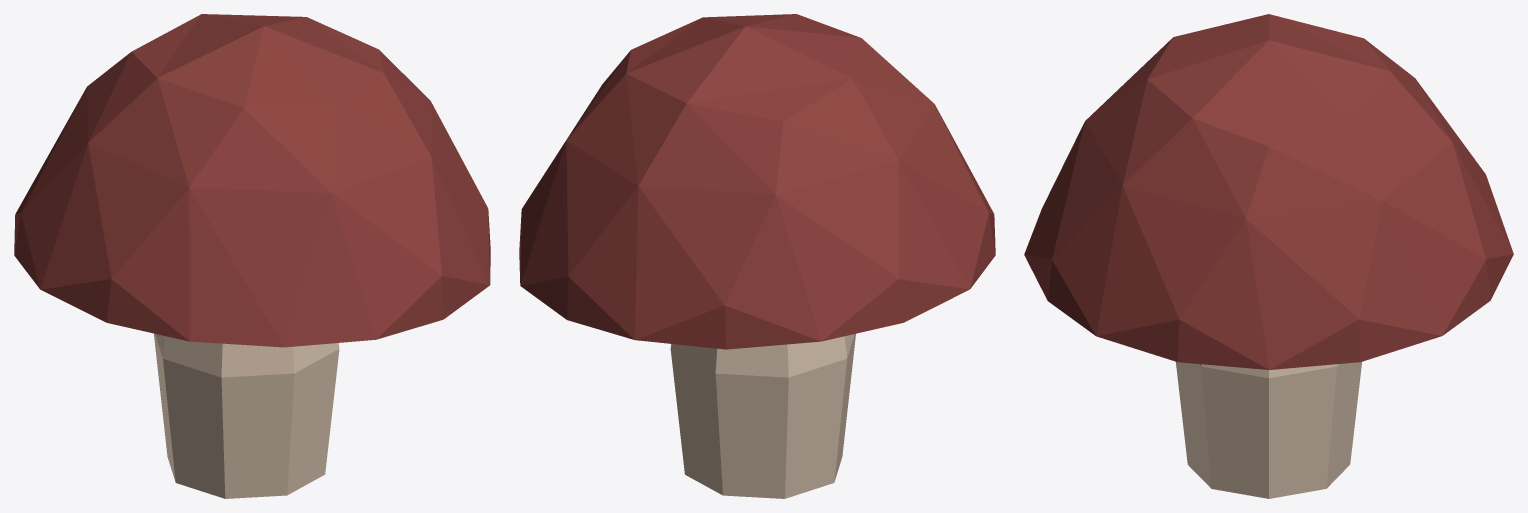
The model's file is mushroom-04.glb.
The picture shows the model from 3 angles, left to right: view 1: azimuth 30°, elevation 25°; view 2: azimuth 150°, elevation 25°; view 3: azimuth 270°, elevation 25°; orthographic projection.
Parts seen in each view (by area): view 1: Mushroom2_1.001; view 2: Mushroom2_1.001; view 3: Mushroom2_1.001.
Boxes of the visible parts, x1,y1,x2,y2 form: Mushroom2_1.001: (14,14,490,498); Mushroom2_1.001: (519,14,995,498); Mushroom2_1.001: (1024,14,1513,498).
Size of the model in its own units: 0.696 by 0.6802 by 0.697.
